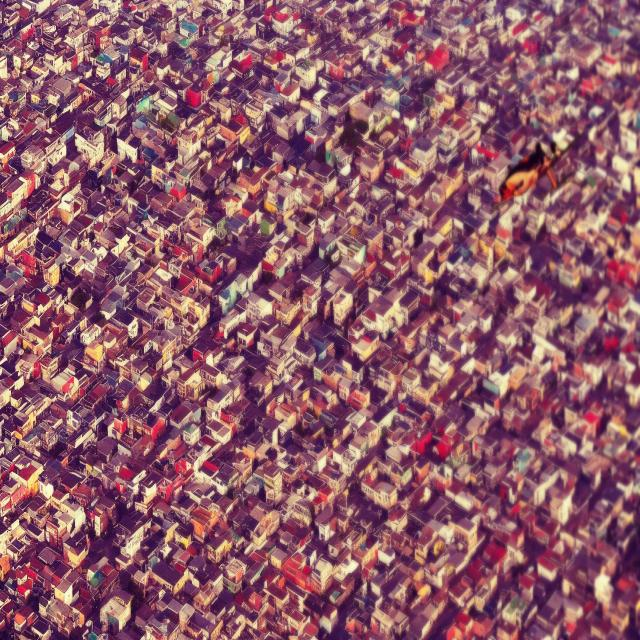airplane: (499, 138, 566, 202)
